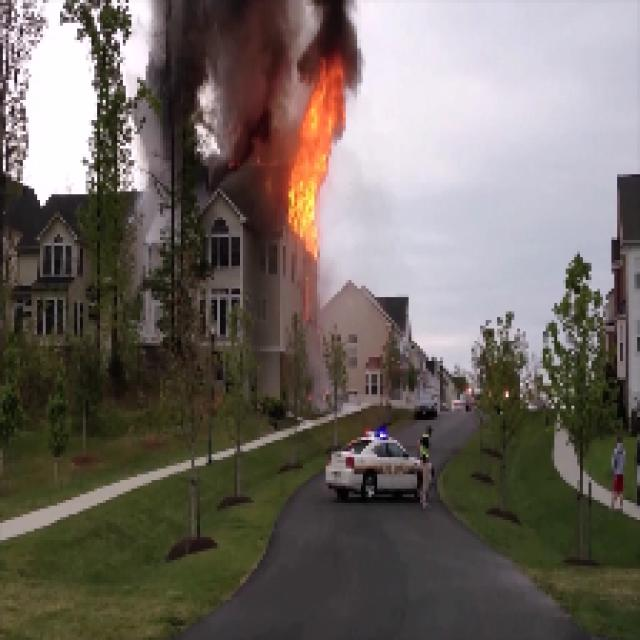fire: (286, 74, 344, 242)
smoke: (155, 0, 290, 143), (315, 1, 367, 64)
